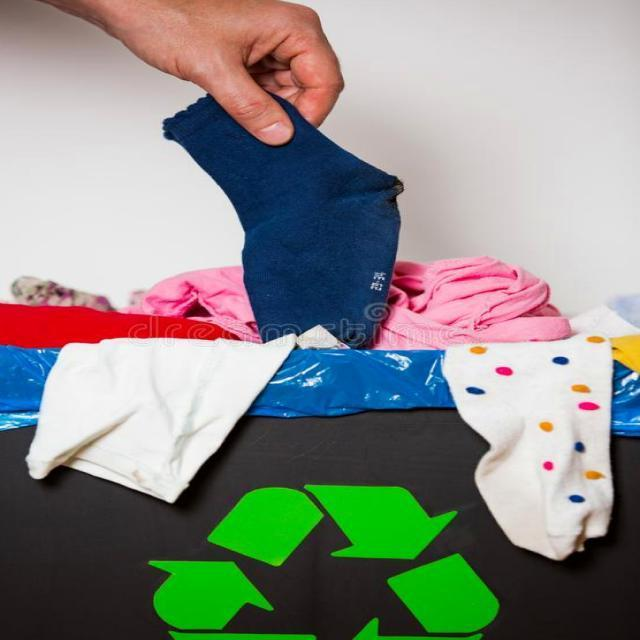clothes: (170, 143, 440, 363)
